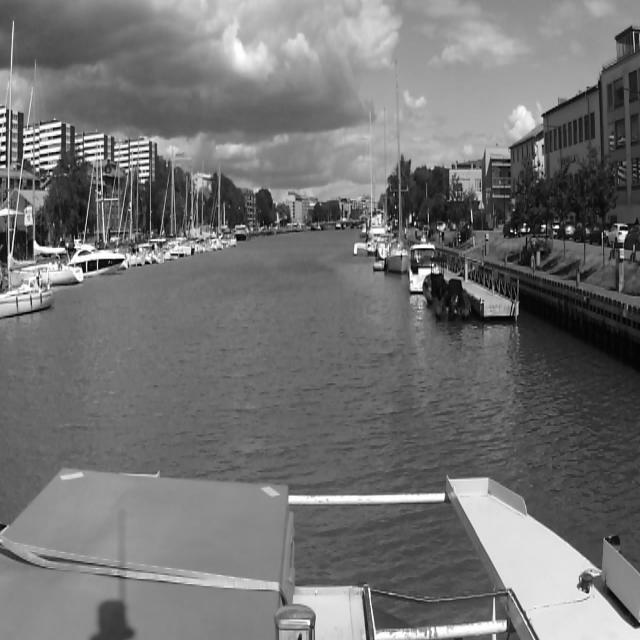ship: (0, 21, 53, 319), (387, 59, 408, 276), (160, 157, 200, 255), (353, 110, 377, 256), (204, 160, 230, 256), (73, 239, 125, 277), (434, 278, 472, 322), (408, 235, 433, 293)
